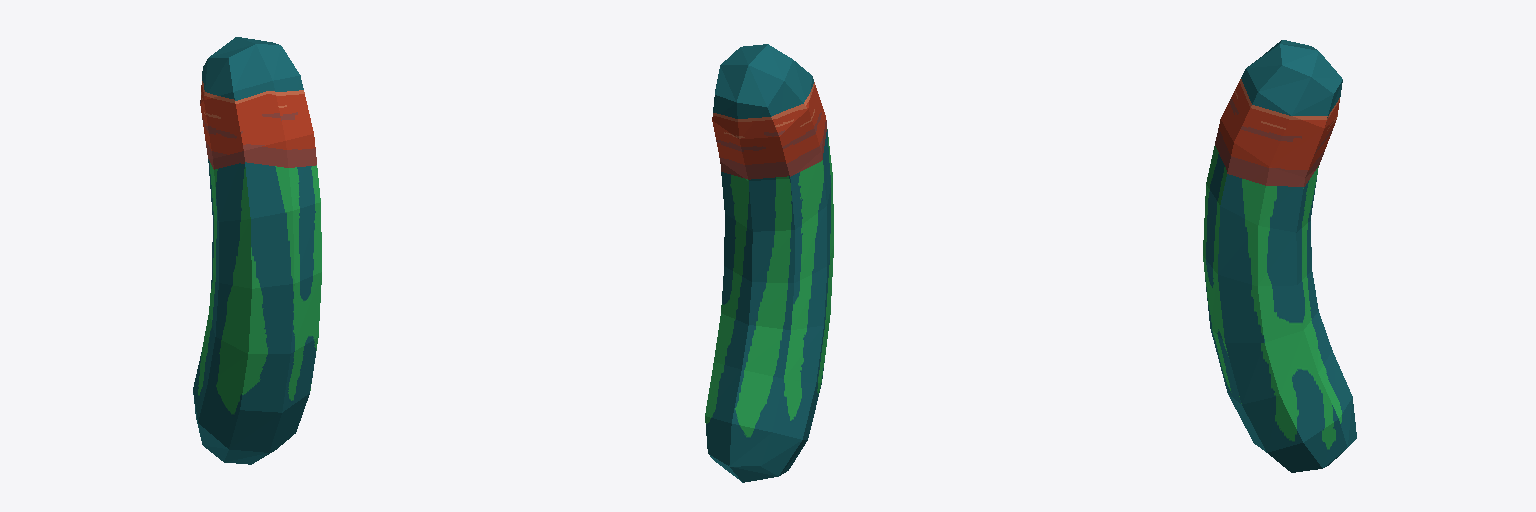
3 views of the same model, side by side, from view 1: azimuth 30°, elevation 25°; view 2: azimuth 150°, elevation 25°; view 3: azimuth 270°, elevation 25° (orthographic).
Visible parts, largest first — view 1: Cube; view 2: Cube; view 3: Cube.
Part boxes in pixels (bbox=[...]): Cube: bbox=[193, 37, 321, 464]; Cube: bbox=[705, 44, 833, 482]; Cube: bbox=[1203, 40, 1356, 472].
Bounding box in the file's own units: 1.83 × 7.69 × 2.54.
Materials: 1 (1 with a texture image).